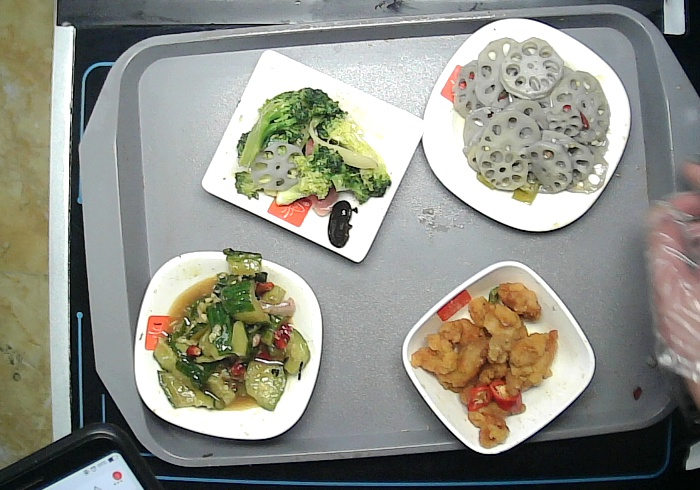SHKJ-Bai_Se_Cai_Die: (127, 248, 325, 445)
SHKJ-Bai_Se_Si_Fang_Cai_Die: (419, 15, 637, 239)
SHKJ-Bai_Se_Xiao_Fang_Die: (398, 258, 598, 461)
SHKJ-Si_Fang_Min: (200, 49, 427, 264)
